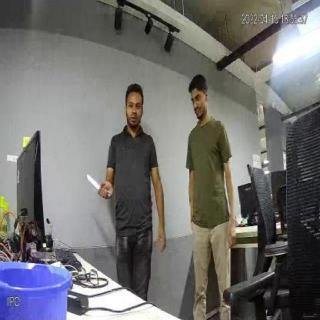knife: (87, 172, 113, 202)
